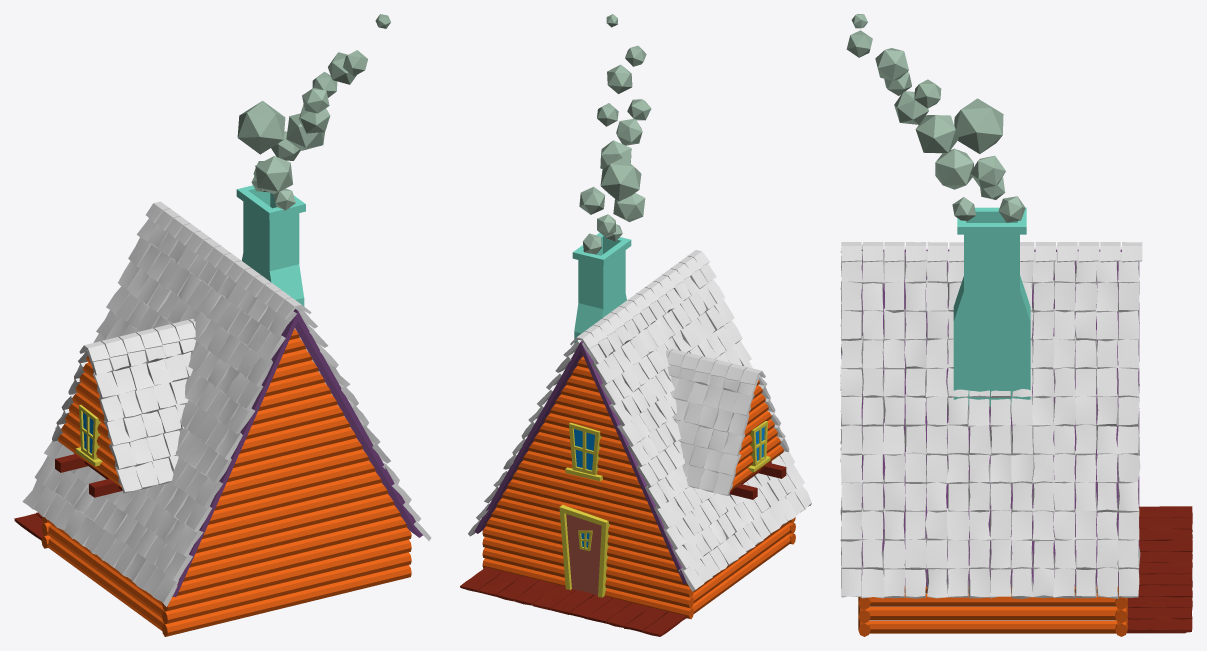
The model's file is House.fbx.
3 views of the same model, side by side, from view 1: azimuth 30°, elevation 25°; view 2: azimuth 150°, elevation 25°; view 3: azimuth 270°, elevation 25° (orthographic). The views are drawn at different scales.
Parts seen in each view (by area): view 1: Cylinder.001, Cube.007, Cube.006, Cylinder, Cylinder.003, Icosphere.001, Icosphere.002, Plane.008, Icosphere, Icosphere.007; view 2: Cylinder.002, Cube.009, Cube.007, Cube.006, Window, Cylinder, Plane.005, Cylinder.003, Icosphere.001, Icosphere.002, Plane.008, Icosphere (+3 smaller); view 3: Cube.007, Cylinder, Cube.009, Cube.006, Icosphere.001, Icosphere, Icosphere.002, Icosphere.010, Icosphere.003, Icosphere.007, Roof.314, Roof.214 (+144 smaller).
Boxes of the visible parts, bbox=[...] form: Cylinder.001: bbox=[162, 329, 411, 636]; Cube.007: bbox=[236, 185, 305, 306]; Cube.006: bbox=[173, 309, 422, 597]; Cylinder: bbox=[48, 520, 164, 630]; Cylinder.003: bbox=[58, 355, 121, 487]; Icosphere.001: bbox=[237, 101, 285, 154]; Icosphere.002: bbox=[255, 156, 292, 194]; Plane.008: bbox=[79, 405, 101, 459]; Icosphere: bbox=[286, 113, 324, 150]; Icosphere.007: bbox=[298, 104, 330, 133]; Cylinder.002: bbox=[482, 355, 693, 619]; Cube.009: bbox=[460, 567, 686, 636]; Cube.007: bbox=[572, 232, 631, 343]; Cube.006: bbox=[474, 341, 686, 584]; Window: bbox=[559, 422, 609, 597]; Cylinder: bbox=[691, 520, 790, 613]; Plane.005: bbox=[566, 514, 601, 595]; Cylinder.003: bbox=[730, 380, 783, 490]; Icosphere.001: bbox=[600, 158, 641, 201]; Icosphere.002: bbox=[613, 193, 645, 222]; Plane.008: bbox=[749, 421, 767, 466]; Icosphere: bbox=[600, 140, 631, 169]; Cube.007: bbox=[953, 207, 1030, 406]; Cylinder: bbox=[868, 586, 1117, 633]; Cube.009: bbox=[1127, 506, 1192, 633]; Cube.006: bbox=[842, 249, 1139, 586]; Icosphere.001: bbox=[954, 98, 1003, 153]; Icosphere: bbox=[915, 115, 958, 153]; Icosphere.002: bbox=[935, 148, 973, 189]; Icosphere.010: bbox=[875, 48, 908, 80]; Icosphere.003: bbox=[970, 155, 1005, 188]; Icosphere.007: bbox=[894, 91, 928, 124]; Roof.314: bbox=[989, 537, 1011, 570]; Roof.214: bbox=[1032, 336, 1054, 369].
Size of the model in its own units: 131 by 252 by 130.
